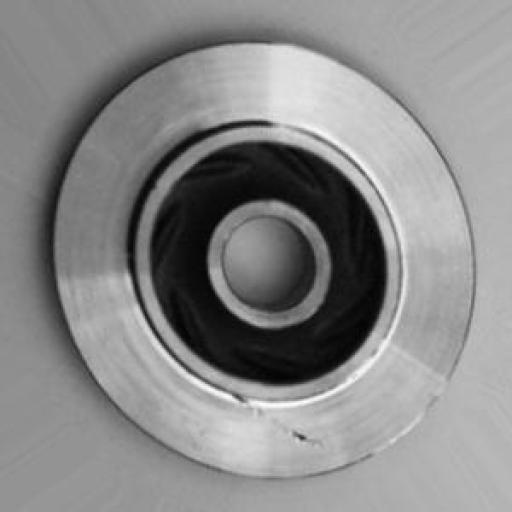defect: (167, 388, 361, 470)
